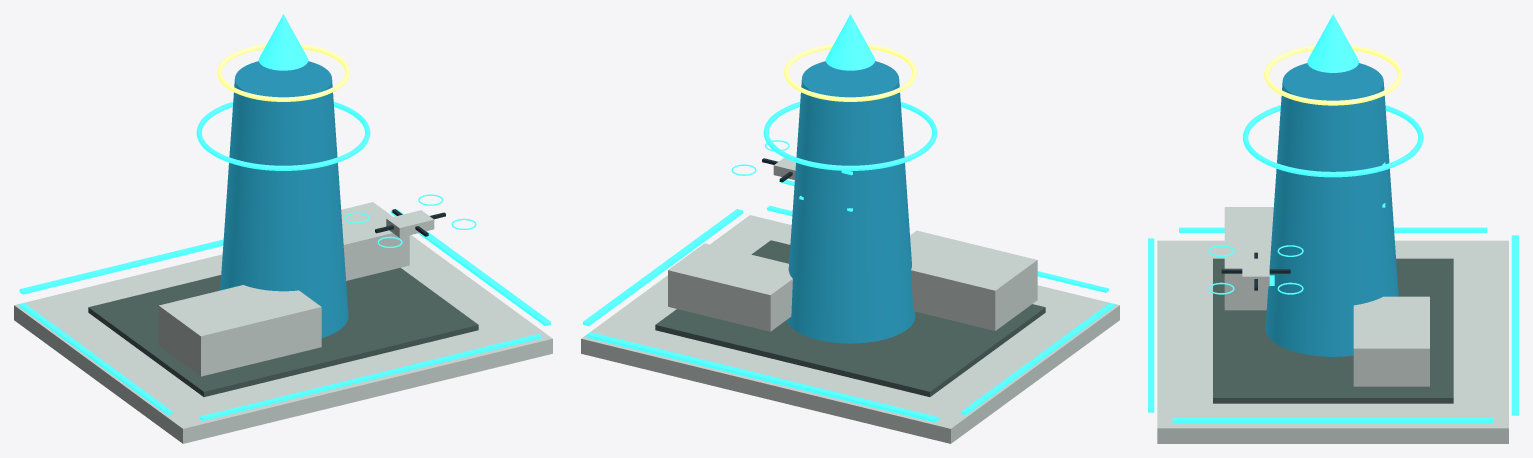
Rendered from ai-tower-landmark.glb.
3 renders of one model, left to right at view 1: azimuth 30°, elevation 25°; view 2: azimuth 150°, elevation 25°; view 3: azimuth 270°, elevation 25°, orthographic. The views are drawn at different scales.
Parts seen in each view (by area): view 1: rj-ai-tower-landmark-clickable-district-pad, rj-ai-tower-landmark-command-tower-core, rj-ai-tower-landmark-inner-service-plaza, rj-ai-tower-landmark-model-lab-wing, rj-ai-tower-landmark-drone-room-wing, rj-ai-tower-landmark-rear-service-rail, rj-ai-tower-landmark-inference-ring, rj-ai-tower-landmark-beacon-cap, rj-ai-tower-landmark-front-status-rail, rj-ai-tower-landmark-sky-crown, rj-ai-tower-landmark-right-status-rail, rj-ai-tower-landmark-left-service-rail (+1 smaller); view 2: rj-ai-tower-landmark-command-tower-core, rj-ai-tower-landmark-clickable-district-pad, rj-ai-tower-landmark-inner-service-plaza, rj-ai-tower-landmark-model-lab-wing, rj-ai-tower-landmark-drone-room-wing, rj-ai-tower-landmark-front-status-rail, rj-ai-tower-landmark-inference-ring, rj-ai-tower-landmark-beacon-cap, rj-ai-tower-landmark-right-status-rail, rj-ai-tower-landmark-sky-crown, rj-ai-tower-landmark-left-service-rail, rj-ai-tower-landmark-rear-service-rail; view 3: rj-ai-tower-landmark-clickable-district-pad, rj-ai-tower-landmark-command-tower-core, rj-ai-tower-landmark-inner-service-plaza, rj-ai-tower-landmark-drone-room-wing, rj-ai-tower-landmark-model-lab-wing, rj-ai-tower-landmark-right-status-rail, rj-ai-tower-landmark-inference-ring, rj-ai-tower-landmark-beacon-cap, rj-ai-tower-landmark-sky-crown, rj-ai-tower-landmark-front-status-rail, rj-ai-tower-landmark-rear-service-rail, rj-ai-tower-landmark-left-service-rail (+1 smaller).
Boxes of the visible parts, box(x1,y1,x2,y2) form: rj-ai-tower-landmark-clickable-district-pad: box(14, 235, 552, 443); rj-ai-tower-landmark-command-tower-core: box(220, 61, 348, 337); rj-ai-tower-landmark-inner-service-plaza: box(88, 268, 478, 396); rj-ai-tower-landmark-model-lab-wing: box(158, 285, 321, 376); rj-ai-tower-landmark-drone-room-wing: box(341, 202, 409, 280); rj-ai-tower-landmark-rear-service-rail: box(200, 334, 541, 420); rj-ai-tower-landmark-inference-ring: box(196, 101, 370, 170); rj-ai-tower-landmark-beacon-cap: box(258, 14, 308, 70); rj-ai-tower-landmark-front-status-rail: box(19, 239, 223, 294); rj-ai-tower-landmark-sky-crown: box(217, 44, 349, 101); rj-ai-tower-landmark-right-status-rail: box(390, 209, 550, 326); rj-ai-tower-landmark-left-service-rail: box(19, 303, 172, 414); rj-ai-tower-landmark-command-tower-core: box(786, 61, 915, 343); rj-ai-tower-landmark-clickable-district-pad: box(581, 215, 1119, 443); rj-ai-tower-landmark-inner-service-plaza: box(655, 240, 1045, 396); rj-ai-tower-landmark-model-lab-wing: box(910, 230, 1037, 330); rj-ai-tower-landmark-drone-room-wing: box(668, 243, 792, 331); rj-ai-tower-landmark-front-status-rail: box(586, 332, 939, 422); rj-ai-tower-landmark-inference-ring: box(763, 101, 937, 170); rj-ai-tower-landmark-beacon-cap: box(825, 14, 875, 70); rj-ai-tower-landmark-right-status-rail: box(583, 209, 743, 326); rj-ai-tower-landmark-sky-crown: box(784, 44, 916, 101); rj-ai-tower-landmark-left-service-rail: box(961, 303, 1114, 414); rj-ai-tower-landmark-rear-service-rail: box(767, 205, 1108, 292); rj-ai-tower-landmark-clickable-district-pad: box(1157, 240, 1508, 443); rj-ai-tower-landmark-command-tower-core: box(1265, 63, 1398, 356); rj-ai-tower-landmark-inner-service-plaza: box(1213, 258, 1453, 403); rj-ai-tower-landmark-drone-room-wing: box(1353, 296, 1429, 386); rj-ai-tower-landmark-model-lab-wing: box(1224, 207, 1273, 310); rj-ai-tower-landmark-right-status-rail: box(1172, 417, 1493, 423); rj-ai-tower-landmark-inference-ring: box(1242, 105, 1423, 177); rj-ai-tower-landmark-beacon-cap: box(1307, 14, 1358, 72); rj-ai-tower-landmark-sky-crown: box(1264, 45, 1402, 105); rj-ai-tower-landmark-front-status-rail: box(1511, 235, 1518, 415); rj-ai-tower-landmark-rear-service-rail: box(1148, 238, 1154, 412); rj-ai-tower-landmark-left-service-rail: box(1179, 227, 1487, 232).
Size of the model in its own units: 7.41 by 6.01 by 6.01.
